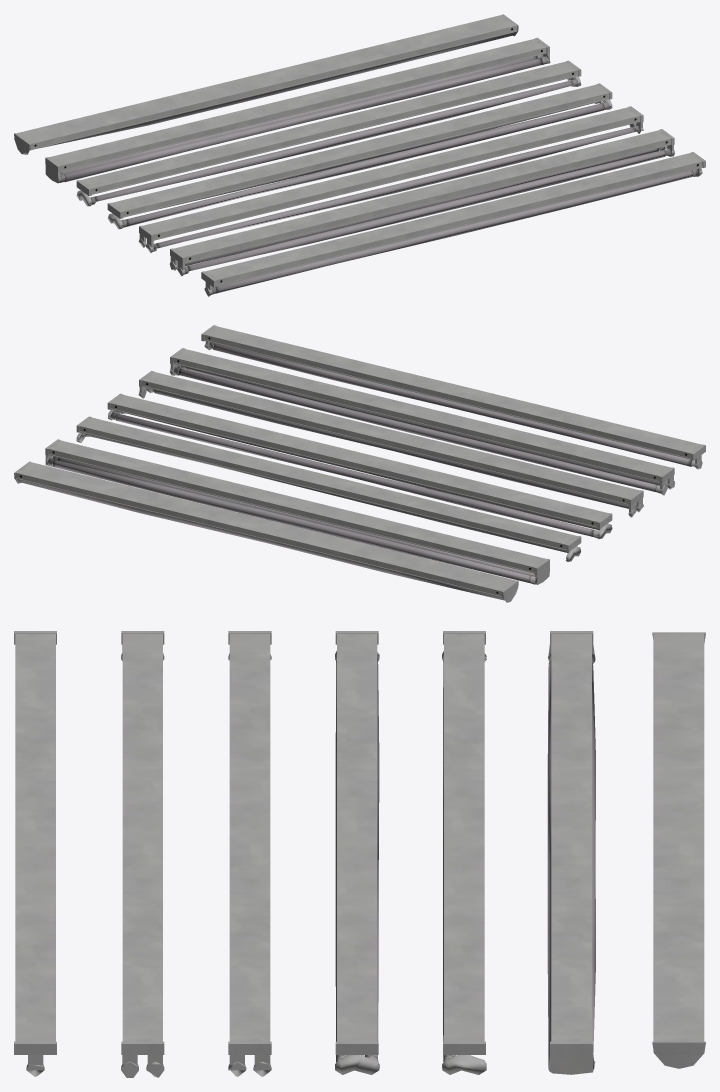
File: mounted_fluorescent_lights.glb
3 views of the same model, one above another, from view 1: azimuth 30°, elevation 25°; view 2: azimuth 150°, elevation 25°; view 3: azimuth 270°, elevation 25° (orthographic). The views are drawn at different scales.
Parts seen in each view (by area): view 1: mounted_fluorescent_lights_b, mounted_fluorescent_lights_f, mounted_fluorescent_lights_d, mounted_fluorescent_lights_e, mounted_fluorescent_lights_c, mounted_fluorescent_lights_a, mounted_fluorescent_lights_g; view 2: mounted_fluorescent_lights_f, mounted_fluorescent_lights_b, mounted_fluorescent_lights_d, mounted_fluorescent_lights_a, mounted_fluorescent_lights_g, mounted_fluorescent_lights_c, mounted_fluorescent_lights_e; view 3: mounted_fluorescent_lights_g, mounted_fluorescent_lights_f, mounted_fluorescent_lights_d, mounted_fluorescent_lights_e, mounted_fluorescent_lights_c, mounted_fluorescent_lights_b, mounted_fluorescent_lights_a.
Part boxes in pixels (<box>): mounted_fluorescent_lights_b: <box>169,129,674,276</box>; mounted_fluorescent_lights_f: <box>45,37,550,183</box>; mounted_fluorescent_lights_d: <box>107,83,612,229</box>; mounted_fluorescent_lights_e: <box>76,60,581,206</box>; mounted_fluorescent_lights_c: <box>138,106,643,252</box>; mounted_fluorescent_lights_a: <box>201,152,705,296</box>; mounted_fluorescent_lights_g: <box>14,14,518,154</box>; mounted_fluorescent_lights_f: <box>45,439,549,584</box>; mounted_fluorescent_lights_b: <box>170,348,674,495</box>; mounted_fluorescent_lights_d: <box>107,393,612,539</box>; mounted_fluorescent_lights_a: <box>201,325,705,469</box>; mounted_fluorescent_lights_g: <box>14,461,518,602</box>; mounted_fluorescent_lights_c: <box>138,371,643,517</box>; mounted_fluorescent_lights_e: <box>76,416,581,561</box>; mounted_fluorescent_lights_g: <box>652,632,705,1068</box>; mounted_fluorescent_lights_f: <box>547,631,595,1074</box>; mounted_fluorescent_lights_d: <box>335,631,379,1074</box>; mounted_fluorescent_lights_e: <box>442,631,486,1074</box>; mounted_fluorescent_lights_c: <box>228,631,271,1076</box>; mounted_fluorescent_lights_b: <box>121,631,164,1077</box>; mounted_fluorescent_lights_a: <box>14,631,56,1076</box>.
Size of the model in its own units: 0.9122 by 0.0352 by 0.6454.
Materials: 2 (2 with a texture image).
